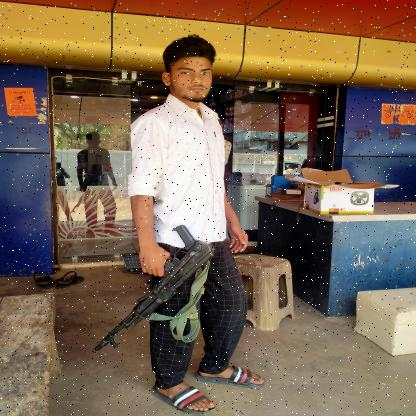rifle: (91, 224, 217, 354)
